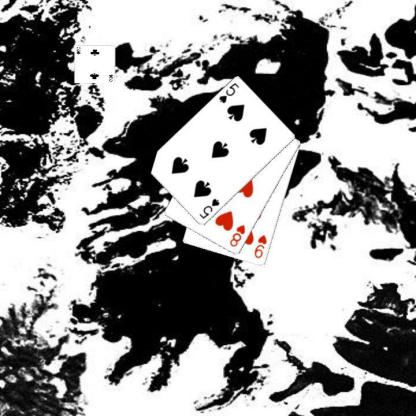5S: (196, 196, 221, 220), (216, 80, 240, 105)
8H: (227, 223, 246, 249)
9H: (252, 232, 268, 260)
